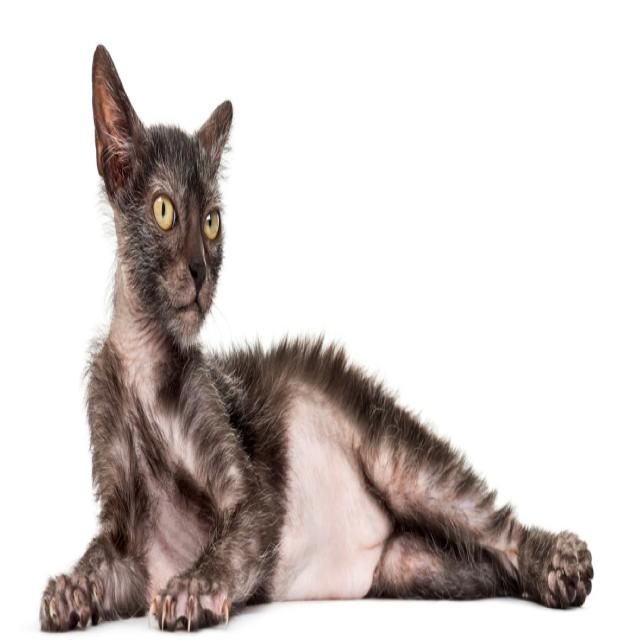Lykoi: (36, 38, 596, 640)
